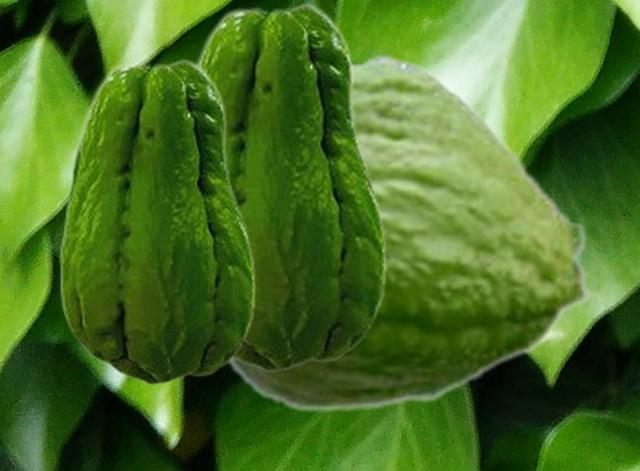sayote: (226, 53, 595, 413), (193, 2, 386, 372), (59, 58, 255, 385)
